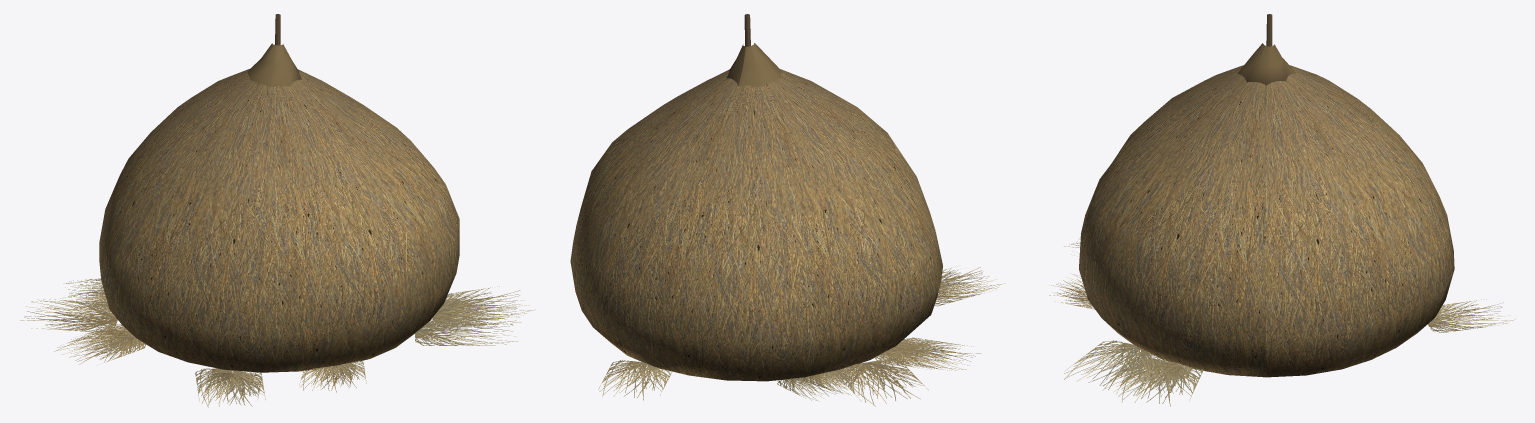
File: straw_pile.glb
3 views of the same model, side by side, from view 1: azimuth 30°, elevation 25°; view 2: azimuth 150°, elevation 25°; view 3: azimuth 270°, elevation 25° (orthographic). The views are drawn at different scales.
Visible parts, largest first — view 1: straw_dome, straw_wisps, straw_pole; view 2: straw_dome, straw_wisps, straw_pole; view 3: straw_dome, straw_wisps, straw_pole.
Part boxes in pixels (x1=…): straw_dome: x1=99, y1=68, x2=459, y2=372; straw_wisps: x1=20, y1=278, x2=535, y2=407; straw_pole: x1=247, y1=14, x2=301, y2=86; straw_dome: x1=570, y1=69, x2=942, y2=381; straw_wisps: x1=598, y1=266, x2=1005, y2=406; straw_pole: x1=727, y1=14, x2=781, y2=86; straw_dome: x1=1079, y1=65, x2=1454, y2=377; straw_wisps: x1=1049, y1=234, x2=1515, y2=406; straw_pole: x1=1237, y1=14, x2=1294, y2=85.
Size of the model in its own units: 5.05 by 3.31 by 4.84.
Materials: 3 (2 with a texture image).
